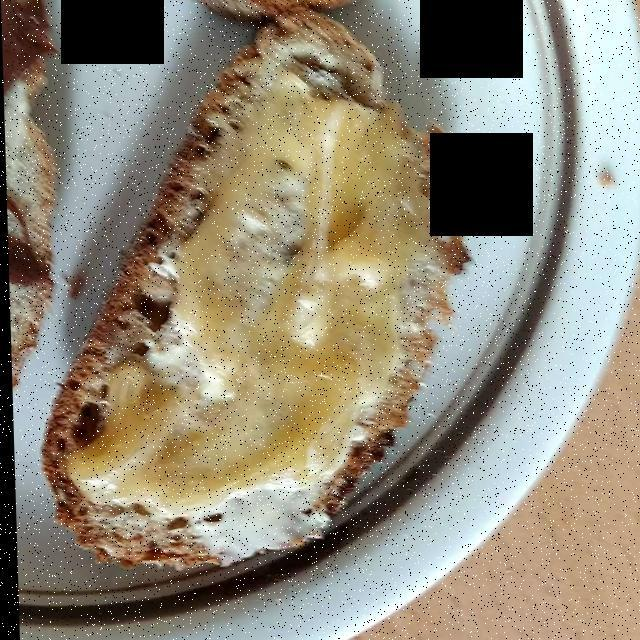bread: (34, 15, 468, 569)
honey: (82, 85, 427, 528)
